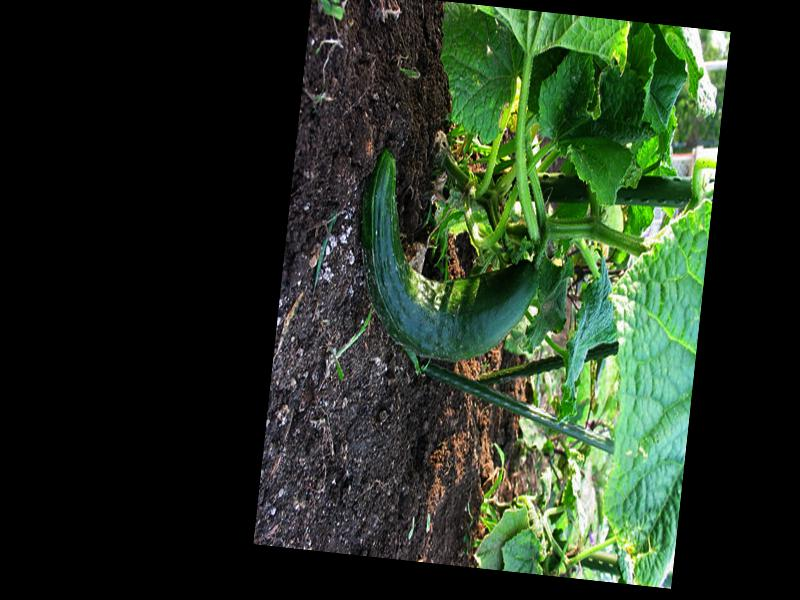Cucumber: (346, 145, 551, 371)
